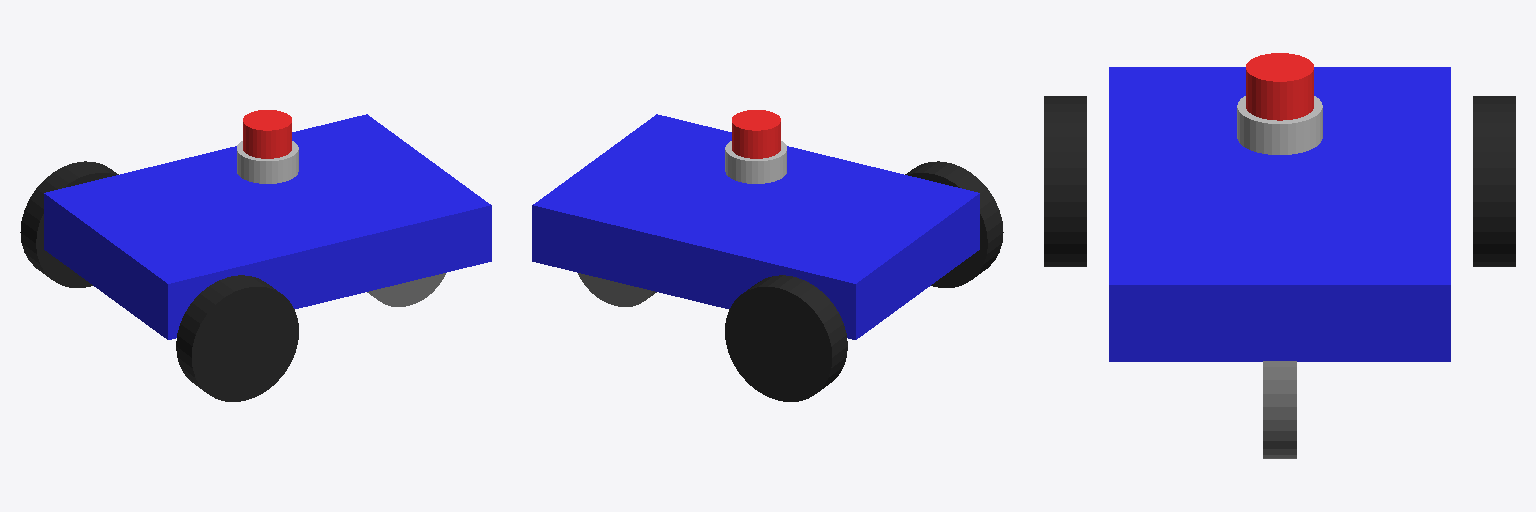
robot.urdf — three_wheel_robot:
<?xml version="1.0"?>
<robot name="three_wheel_robot">

  <!-- Robot Base -->
  <link name="base_link">
    <visual>
      <origin xyz="0 0 0.05" rpy="0 0 0"/>
      <geometry>
        <box size="0.6 0.4 0.1"/>
      </geometry>
      <material name="blue">
        <color rgba="0.2 0.2 1.0 1.0"/>
      </material>
    </visual>
    <collision>
      <origin xyz="0 0 0.05" rpy="0 0 0"/>
      <geometry>
        <box size="0.6 0.4 0.1"/>
      </geometry>
    </collision>
    <inertial>
      <origin xyz="0 0 0.05" rpy="0 0 0"/>
      <mass value="10.0"/>
      <inertia ixx="0.133" ixy="0.0" ixz="0.0" 
               iyy="0.308" iyz="0.0" 
               izz="0.375"/>
    </inertial>
  </link>

  <!-- Left Rear Wheel (Driven) -->
  <link name="left_wheel">
    <visual>
      <origin xyz="0 0 0" rpy="1.5707 0 0"/>
      <geometry>
        <cylinder radius="0.1" length="0.05"/>
      </geometry>
      <material name="black">
        <color rgba="0.2 0.2 0.2 1.0"/>
      </material>
    </visual>
    <collision>
      <origin xyz="0 0 0" rpy="1.5707 0 0"/>
      <geometry>
        <cylinder radius="0.1" length="0.05"/>
      </geometry>
    </collision>
    <inertial>
      <origin xyz="0 0 0" rpy="1.5707 0 0"/>
      <mass value="1.0"/>
      <inertia ixx="0.0052" ixy="0.0" ixz="0.0" 
               iyy="0.0052" iyz="0.0" 
               izz="0.005"/>
    </inertial>
  </link>

  <joint name="left_wheel_joint" type="continuous">
    <parent link="base_link"/>
    <child link="left_wheel"/>
    <origin xyz="-0.2 0.25 0" rpy="0 0 0"/>
    <axis xyz="0 1 0"/>
    <dynamics damping="0.1" friction="0.1"/>
  </joint>

  <!-- Right Rear Wheel (Driven) -->
  <link name="right_wheel">
    <visual>
      <origin xyz="0 0 0" rpy="1.5707 0 0"/>
      <geometry>
        <cylinder radius="0.1" length="0.05"/>
      </geometry>
      <material name="black">
        <color rgba="0.2 0.2 0.2 1.0"/>
      </material>
    </visual>
    <collision>
      <origin xyz="0 0 0" rpy="1.5707 0 0"/>
      <geometry>
        <cylinder radius="0.1" length="0.05"/>
      </geometry>
    </collision>
    <inertial>
      <origin xyz="0 0 0" rpy="1.5707 0 0"/>
      <mass value="1.0"/>
      <inertia ixx="0.0052" ixy="0.0" ixz="0.0" 
               iyy="0.0052" iyz="0.0" 
               izz="0.005"/>
    </inertial>
  </link>

  <joint name="right_wheel_joint" type="continuous">
    <parent link="base_link"/>
    <child link="right_wheel"/>
    <origin xyz="-0.2 -0.25 0" rpy="0 0 0"/>
    <axis xyz="0 1 0"/>
    <dynamics damping="0.1" friction="0.1"/>
  </joint>

  <!-- Front Caster Wheel (Free) -->
  <link name="front_caster_wheel">
    <visual>
      <origin xyz="0 0 0" rpy="1.5707 0 0"/>
      <geometry>
        <cylinder radius="0.08" length="0.04"/>
      </geometry>
      <material name="gray">
        <color rgba="0.5 0.5 0.5 1.0"/>
      </material>
    </visual>
    <collision>
      <origin xyz="0 0 0" rpy="1.5707 0 0"/>
      <geometry>
        <cylinder radius="0.08" length="0.04"/>
      </geometry>
    </collision>
    <inertial>
      <origin xyz="0 0 0" rpy="1.5707 0 0"/>
      <mass value="0.5"/>
      <inertia ixx="0.0016" ixy="0.0" ixz="0.0" 
               iyy="0.0016" iyz="0.0" 
               izz="0.0016"/>
    </inertial>
  </link>

  <!-- Caster Support -->
  <link name="caster_support">
    <visual>
      <origin xyz="0 0 -0.03" rpy="0 0 0"/>
      <geometry>
        <cylinder radius="0.02" length="0.06"/>
      </geometry>
      <material name="gray">
        <color rgba="0.5 0.5 0.5 1.0"/>
      </material>
    </visual>
    <collision>
      <origin xyz="0 0 -0.03" rpy="0 0 0"/>
      <geometry>
        <cylinder radius="0.02" length="0.06"/>
      </geometry>
    </collision>
    <inertial>
      <origin xyz="0 0 -0.03" rpy="0 0 0"/>
      <mass value="0.2"/>
      <inertia ixx="0.0001" ixy="0.0" ixz="0.0" 
               iyy="0.0001" iyz="0.0" 
               izz="0.00002"/>
    </inertial>
  </link>

  <joint name="caster_support_joint" type="continuous">
    <parent link="base_link"/>
    <child link="caster_support"/>
    <origin xyz="0.25 0 0.02" rpy="0 0 0"/>
    <axis xyz="0 0 1"/>
    <dynamics damping="0.01" friction="0.01"/>
  </joint>

  <joint name="front_caster_joint" type="continuous">
    <parent link="caster_support"/>
    <child link="front_caster_wheel"/>
    <origin xyz="0 0 -0.08" rpy="0 0 0"/>
    <axis xyz="0 1 0"/>
    <dynamics damping="0.01" friction="0.01"/>
  </joint>

  <!-- LIDAR Mount -->
  <link name="lidar_mount">
    <visual>
      <origin xyz="0 0 0.02" rpy="0 0 0"/>
      <geometry>
        <cylinder radius="0.05" length="0.04"/>
      </geometry>
      <material name="silver">
        <color rgba="0.8 0.8 0.8 1.0"/>
      </material>
    </visual>
    <collision>
      <origin xyz="0 0 0.02" rpy="0 0 0"/>
      <geometry>
        <cylinder radius="0.05" length="0.04"/>
      </geometry>
    </collision>
    <inertial>
      <origin xyz="0 0 0.02" rpy="0 0 0"/>
      <mass value="0.1"/>
      <inertia ixx="0.00003" ixy="0.0" ixz="0.0" 
               iyy="0.00003" iyz="0.0" 
               izz="0.0001"/>
    </inertial>
  </link>

  <joint name="lidar_mount_joint" type="fixed">
    <parent link="base_link"/>
    <child link="lidar_mount"/>
    <origin xyz="0 0 0.15" rpy="0 0 0"/>
  </joint>

  <!-- LIDAR Sensor -->
  <link name="lidar_link">
    <visual>
      <origin xyz="0 0 0.025" rpy="0 0 0"/>
      <geometry>
        <cylinder radius="0.04" length="0.05"/>
      </geometry>
      <material name="red">
        <color rgba="1.0 0.2 0.2 1.0"/>
      </material>
    </visual>
    <collision>
      <origin xyz="0 0 0.025" rpy="0 0 0"/>
      <geometry>
        <cylinder radius="0.04" length="0.05"/>
      </geometry>
    </collision>
    <inertial>
      <origin xyz="0 0 0.025" rpy="0 0 0"/>
      <mass value="0.2"/>
      <inertia ixx="0.00006" ixy="0.0" ixz="0.0" 
               iyy="0.00006" iyz="0.0" 
               izz="0.00016"/>
    </inertial>
  </link>

  <joint name="lidar_joint" type="fixed">
    <parent link="lidar_mount"/>
    <child link="lidar_link"/>
    <origin xyz="0 0 0.04" rpy="0 0 0"/>
  </joint>

  <!-- Gazebo Colors -->
  <gazebo reference="base_link">
    <material>Gazebo/Blue</material>
  </gazebo>
  
  <gazebo reference="left_wheel">
    <material>Gazebo/Black</material>
    <mu1>1.0</mu1>
    <mu2>1.0</mu2>
  </gazebo>
  
  <gazebo reference="right_wheel">
    <material>Gazebo/Black</material>
    <mu1>1.0</mu1>
    <mu2>1.0</mu2>
  </gazebo>
  
  <gazebo reference="front_caster_wheel">
    <material>Gazebo/Gray</material>
    <mu1>0.1</mu1>
    <mu2>0.1</mu2>
  </gazebo>
  
  <gazebo reference="lidar_link">
    <material>Gazebo/Black</material>
  </gazebo>

  <!-- LIDAR Sensor Plugin -->
  <gazebo reference="lidar_link">
    <sensor type="ray" name="lidar_sensor">
      <pose>0 0 0 0 0 0</pose>
      <visualize>true</visualize>
      <update_rate>10</update_rate>
      <ray>
        <scan>
          <horizontal>
            <samples>360</samples>
            <resolution>1</resolution>
            <min_angle>-3.14159</min_angle>
            <max_angle>3.14159</max_angle>
          </horizontal>
        </scan>
        <range>
          <min>0.1</min>
          <max>10.0</max>
          <resolution>0.01</resolution>
        </range>
        <noise>
          <type>gaussian</type>
          <mean>0.0</mean>
          <stddev>0.01</stddev>
        </noise>
      </ray>
      <plugin name="gazebo_ros_lidar_controller" filename="libgazebo_ros_laser.so">
        <topicName>/scan</topicName>
        <frameName>lidar_link</frameName>
      </plugin>
    </sensor>
  </gazebo>

  <!-- Differential Drive Plugin -->
  <gazebo>
    <plugin name="differential_drive_controller" filename="libgazebo_ros_diff_drive.so">
      <alwaysOn>true</alwaysOn>
      <updateRate>50</updateRate>
      <leftJoint>left_wheel_joint</leftJoint>
      <rightJoint>right_wheel_joint</rightJoint>
      <wheelSeparation>0.5</wheelSeparation>
      <wheelDiameter>0.2</wheelDiameter>
      <torque>10</torque>
      <commandTopic>cmd_vel</commandTopic>
      <odometryTopic>odom</odometryTopic>
      <odometryFrame>odom</odometryFrame>
      <robotBaseFrame>base_link</robotBaseFrame>
    </plugin>
  </gazebo>

</robot>

--- Facts derived from the render (not from the file) ---
Views: 3 orthographic renders of the robot side by side, from view 1: azimuth 30°, elevation 25°; view 2: azimuth 150°, elevation 25°; view 3: azimuth 270°, elevation 25°.
Robot: three_wheel_robot — 7 links, 6 joints (4 continuous, 2 fixed); root link base_link; default pose: all joints at 0.
Visible links, largest first — view 1: base_link, right_wheel, left_wheel, lidar_link, lidar_mount, front_caster_wheel; view 2: base_link, left_wheel, right_wheel, lidar_link, lidar_mount, front_caster_wheel; view 3: base_link, left_wheel, right_wheel, lidar_link, front_caster_wheel, lidar_mount.
Link boxes in pixels (bbox=[...]): base_link: bbox=[44, 114, 491, 339]; right_wheel: bbox=[176, 275, 298, 401]; left_wheel: bbox=[20, 161, 118, 287]; lidar_link: bbox=[243, 110, 291, 158]; lidar_mount: bbox=[237, 141, 298, 183]; front_caster_wheel: bbox=[367, 273, 445, 306]; base_link: bbox=[532, 114, 979, 339]; left_wheel: bbox=[725, 275, 847, 401]; right_wheel: bbox=[905, 161, 1003, 287]; lidar_link: bbox=[732, 110, 780, 158]; lidar_mount: bbox=[725, 141, 786, 183]; front_caster_wheel: bbox=[578, 273, 656, 306]; base_link: bbox=[1109, 67, 1450, 361]; left_wheel: bbox=[1473, 96, 1515, 266]; right_wheel: bbox=[1044, 96, 1086, 266]; lidar_link: bbox=[1246, 53, 1313, 120]; front_caster_wheel: bbox=[1263, 361, 1296, 458]; lidar_mount: bbox=[1237, 96, 1322, 154].
Size in the robot's own frame: 0.63 by 0.55 by 0.38 metres.
Geometry: primitives only (box / cylinder / sphere), no mesh files.
